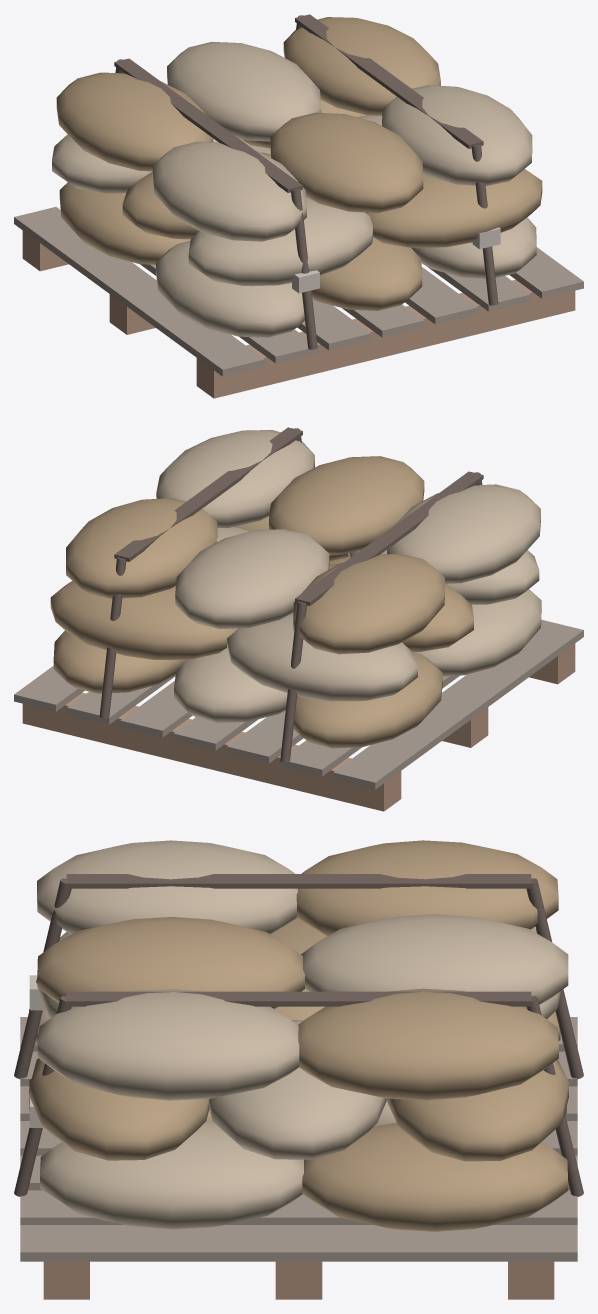
Rendered from D05_pallet_with_sacks.glb.
3 renders of one model, top to bottom at view 1: azimuth 30°, elevation 25°; view 2: azimuth 150°, elevation 25°; view 3: azimuth 270°, elevation 25°, orthographic. The views are drawn at different scales.
Visible parts, largest first — view 1: sack (×14), pallet_board (×7), pallet_runner (×3), strap_top (×2), strap (×2), strap_buckle; view 2: sack (×14), pallet_board (×7), pallet_runner (×3), strap_top (×2), strap (×2); view 3: sack (×12), pallet_board (×4), strap_top (×2), strap (×4), pallet_runner (×3).
Part boxes in pixels (x1=…): sack (×14): x1=52, y1=17, x2=542, y2=337; pallet_board (×7): x1=14, y1=207, x2=583, y2=376; pallet_runner (×3): x1=22, y1=230, x2=575, y2=398; strap_top (×2): x1=114, y1=14, x2=483, y2=192; strap (×2): x1=291, y1=144, x2=498, y2=349; strap_buckle: x1=292, y1=270, x2=319, y2=293; sack (×14): x1=50, y1=430, x2=541, y2=748; pallet_board (×7): x1=14, y1=620, x2=583, y2=789; pallet_runner (×3): x1=22, y1=643, x2=575, y2=811; strap_top (×2): x1=114, y1=427, x2=483, y2=605; strap (×2): x1=99, y1=557, x2=306, y2=762; sack (×12): x1=30, y1=840, x2=568, y2=1231; pallet_board (×4): x1=20, y1=1086, x2=577, y2=1261; strap_top (×2): x1=66, y1=874, x2=531, y2=1006; strap (×4): x1=14, y1=878, x2=583, y2=1196; pallet_runner (×3): x1=43, y1=1261, x2=554, y2=1299.
Size of the model in its own units: 1.2 by 0.592 by 1.23.
